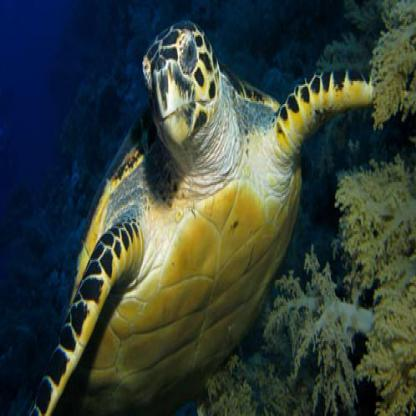turtle: (137, 12, 227, 165)
